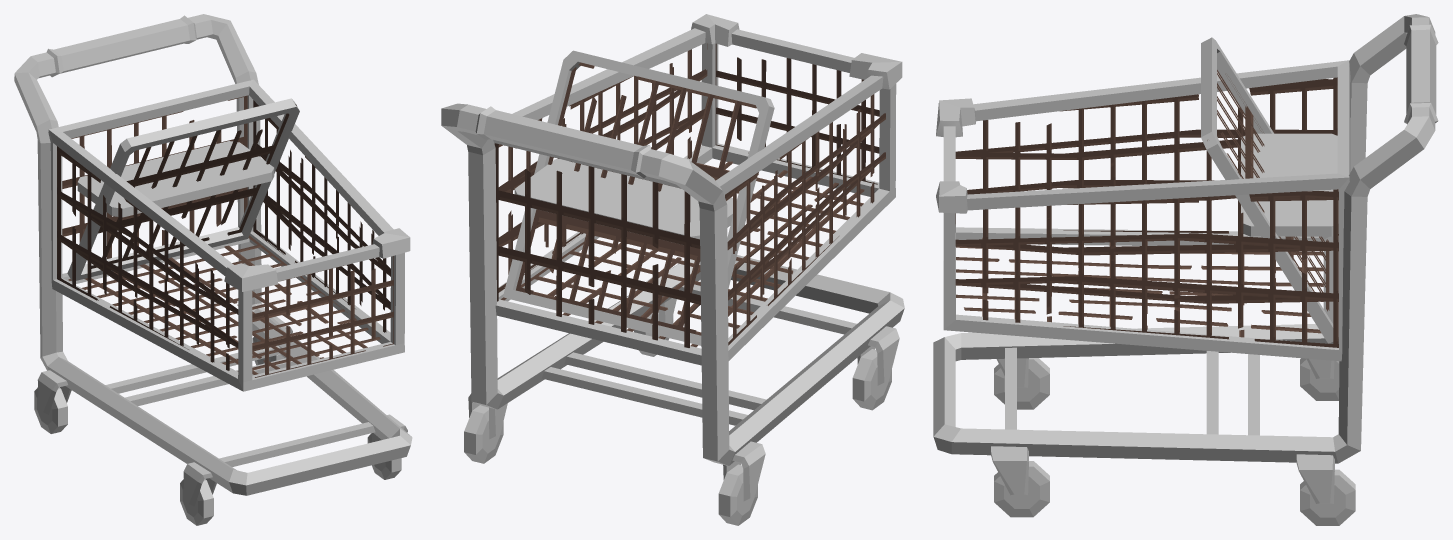
File: SK_Prop_ShoppingCart_01.fbx
The picture shows the model from 3 angles, left to right: view 1: azimuth 30°, elevation 25°; view 2: azimuth 150°, elevation 25°; view 3: azimuth 270°, elevation 25°; orthographic projection. The views are drawn at different scales.
Parts seen in each view (by area): view 1: SK_Prop_ShoppingCart_01, SK_Prop_ShoppingCart_Wheel_fr, SK_Prop_ShoppingCart_Wheel_rr, SK_Prop_ShoppingCart_Wheel_Guard_fr, SK_Prop_ShoppingCart_Wheel_fl; view 2: SK_Prop_ShoppingCart_01, SK_Prop_ShoppingCart_Wheel_fr, SK_Prop_ShoppingCart_Wheel_rr, SK_Prop_ShoppingCart_Wheel_rl, SK_Prop_ShoppingCart_Wheel_Guard_fr; view 3: SK_Prop_ShoppingCart_01, SK_Prop_ShoppingCart_Wheel_fl, SK_Prop_ShoppingCart_Wheel_rl, SK_Prop_ShoppingCart_Wheel_fr, SK_Prop_ShoppingCart_Wheel_Guard_fl, SK_Prop_ShoppingCart_Wheel_rr.
Part boxes in pixels (x1,y1,x2,y2): SK_Prop_ShoppingCart_01: [14, 14, 412, 495]; SK_Prop_ShoppingCart_Wheel_fr: [180, 479, 213, 525]; SK_Prop_ShoppingCart_Wheel_rr: [34, 387, 67, 433]; SK_Prop_ShoppingCart_Wheel_Guard_fr: [183, 462, 216, 506]; SK_Prop_ShoppingCart_Wheel_fl: [367, 433, 401, 479]; SK_Prop_ShoppingCart_01: [441, 14, 904, 501]; SK_Prop_ShoppingCart_Wheel_fr: [852, 349, 891, 410]; SK_Prop_ShoppingCart_Wheel_rr: [718, 464, 757, 525]; SK_Prop_ShoppingCart_Wheel_rl: [464, 405, 503, 463]; SK_Prop_ShoppingCart_Wheel_Guard_fr: [857, 326, 899, 385]; SK_Prop_ShoppingCart_01: [933, 14, 1438, 503]; SK_Prop_ShoppingCart_Wheel_fl: [994, 461, 1049, 517]; SK_Prop_ShoppingCart_Wheel_rl: [1300, 469, 1355, 525]; SK_Prop_ShoppingCart_Wheel_fr: [994, 358, 1049, 409]; SK_Prop_ShoppingCart_Wheel_Guard_fl: [991, 446, 1028, 495]; SK_Prop_ShoppingCart_Wheel_rr: [1300, 358, 1339, 400].
Size of the model in its own units: 87.61 by 118 by 136.
